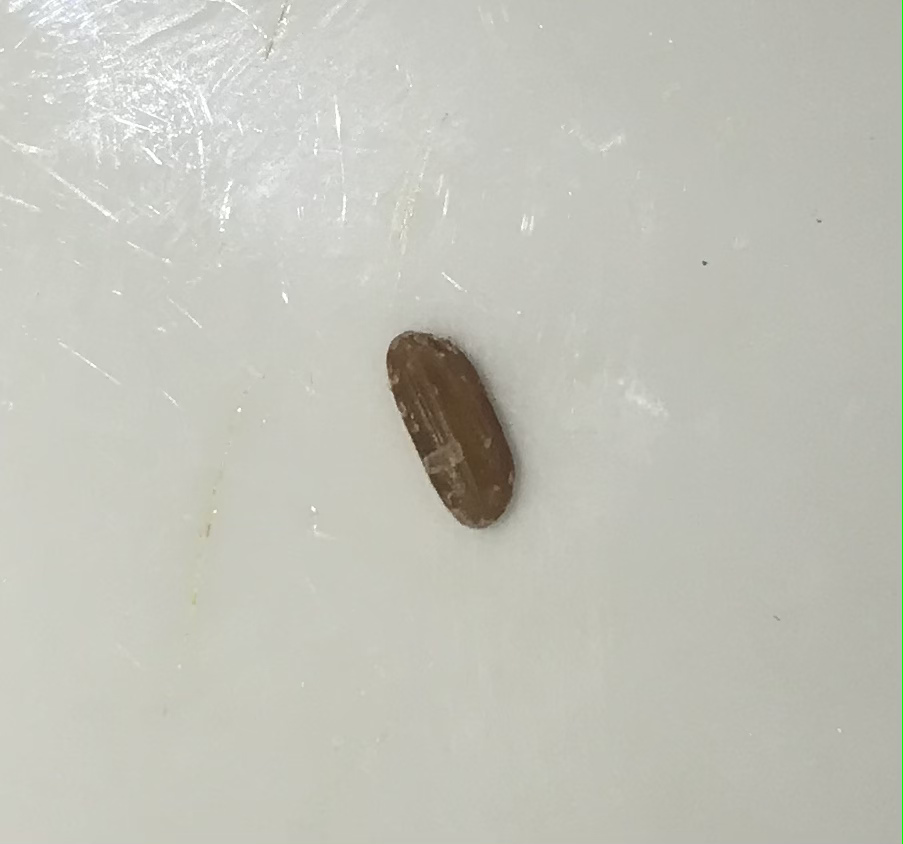Gao Lut Do: (382, 315, 526, 534)
